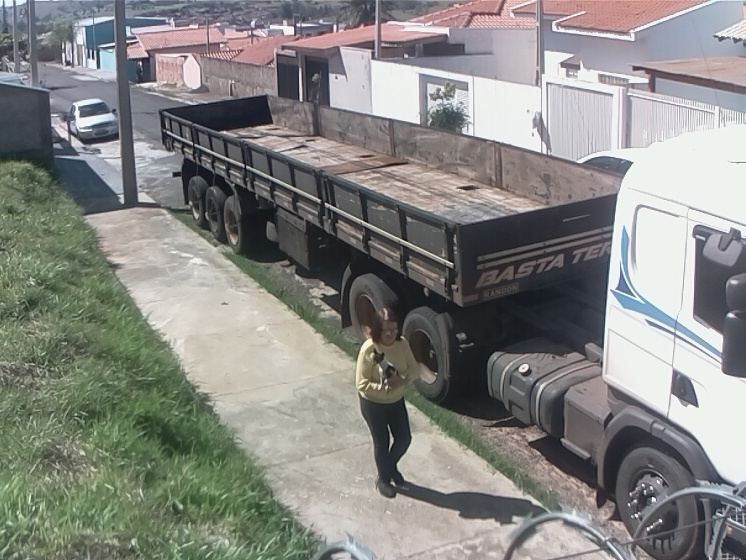person: (351, 305, 419, 499)
